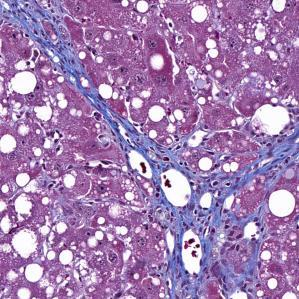fibrosis: (155, 201, 265, 274), (113, 118, 194, 179), (2, 1, 83, 44)
